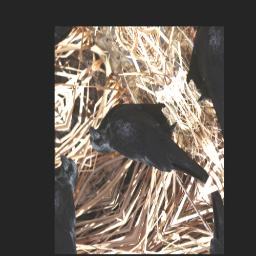Crow: (82, 68, 212, 242)
